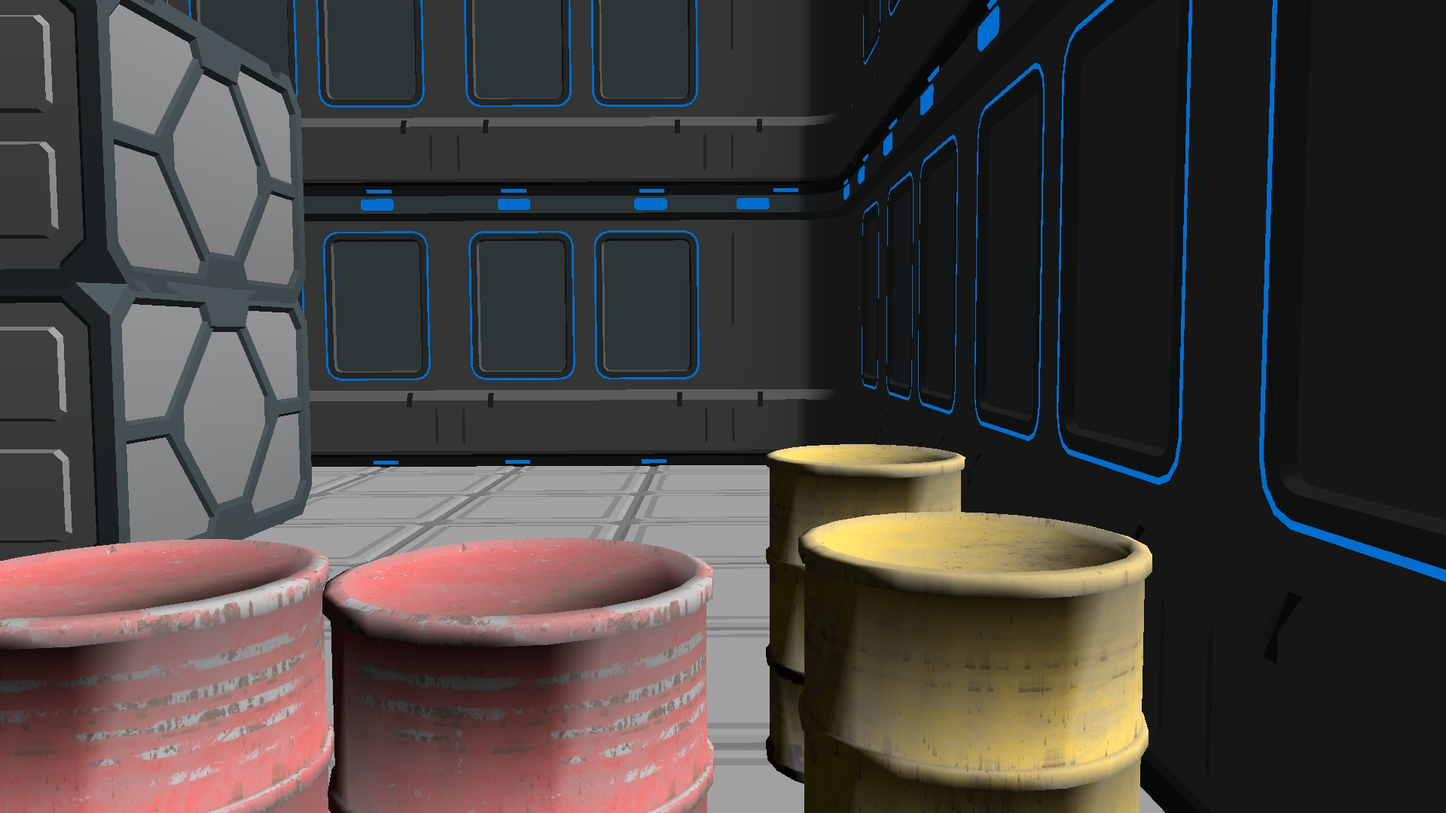toxic barrel: (323, 537, 714, 813), (800, 513, 1154, 813), (0, 537, 329, 813), (766, 445, 965, 785)
